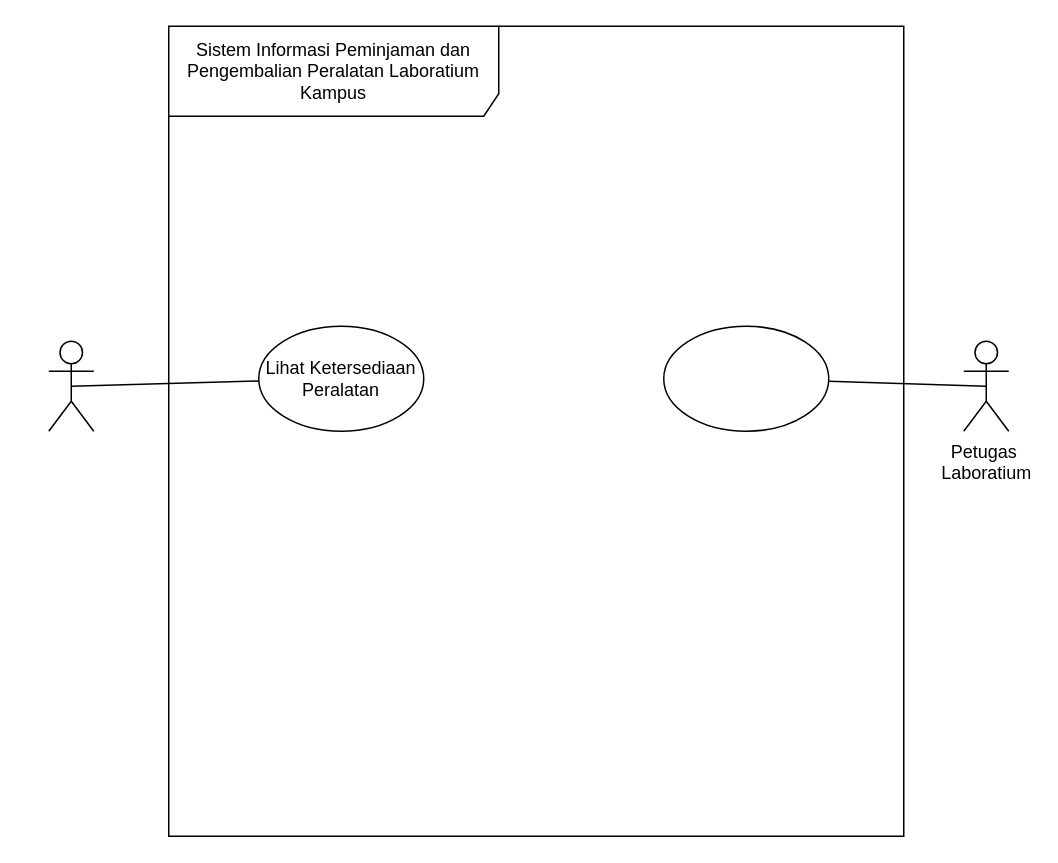
This 1058x863 diagram has some shape labels left out. The box of each missing label's shape, as (x1, y1, x2, y2) in pixels:
Kelola data peralatan: (662, 325, 829, 431)
Mahasiswa: (47, 340, 94, 431)
